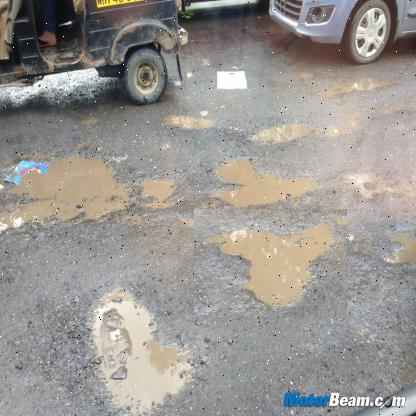pothole_water: (59, 286, 210, 412), (194, 210, 348, 320)
